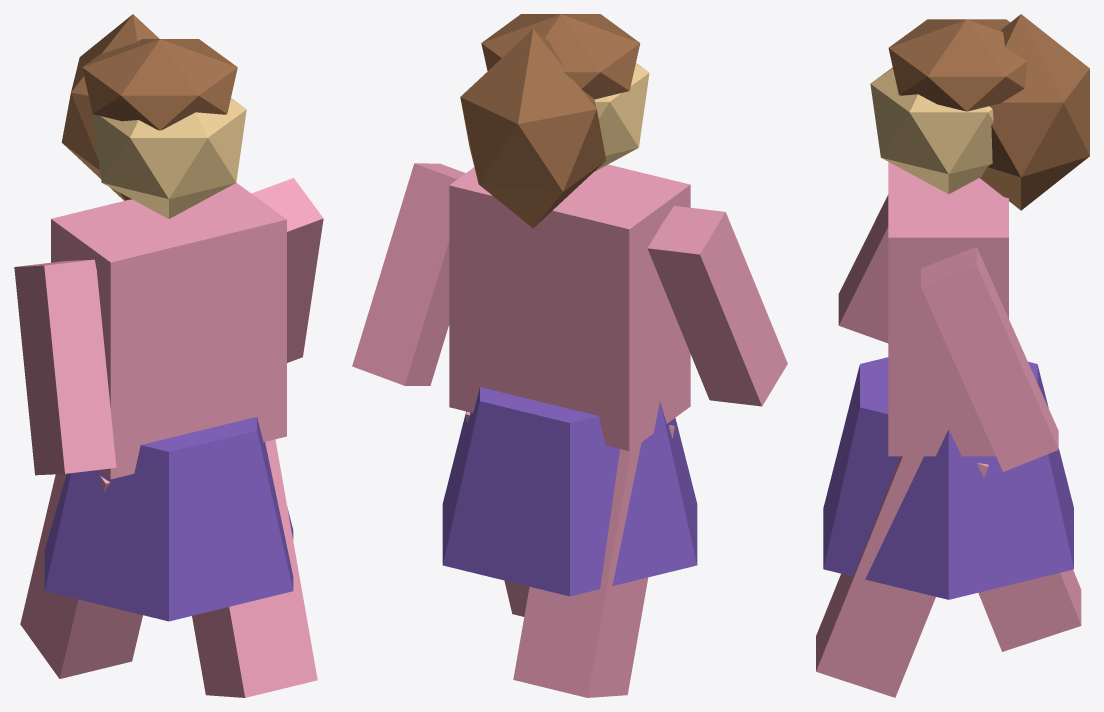
File: people_woman.glb
The picture shows the model from 3 angles, left to right: view 1: azimuth 30°, elevation 25°; view 2: azimuth 150°, elevation 25°; view 3: azimuth 270°, elevation 25°; orthographic projection. The views are drawn at different scales.
Parts seen in each view (by area): view 1: people_woman; view 2: people_woman; view 3: people_woman.
Boxes of the visible parts, x1=… form: people_woman: x1=14, y1=14, x2=323, y2=697; people_woman: x1=352, y1=14, x2=787, y2=697; people_woman: x1=816, y1=14, x2=1089, y2=697.
Size of the model in its own units: 0.0621 by 0.1177 by 0.0454.
